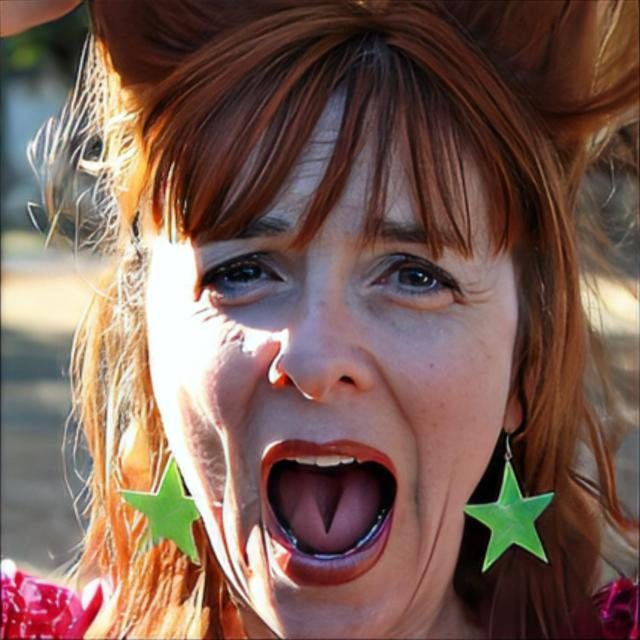Fear: (148, 85, 520, 629)
